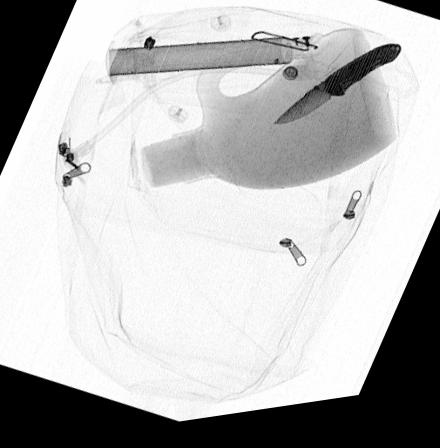Knife: (272, 54, 402, 132)
